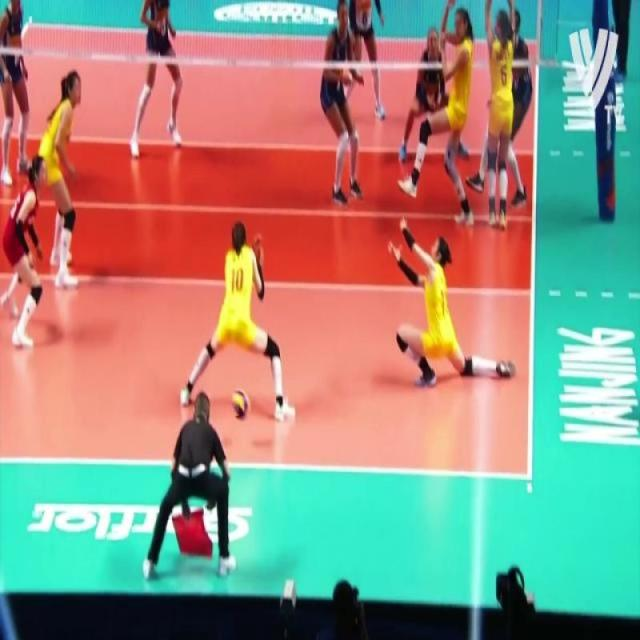volleyball: (230, 388, 250, 421)
